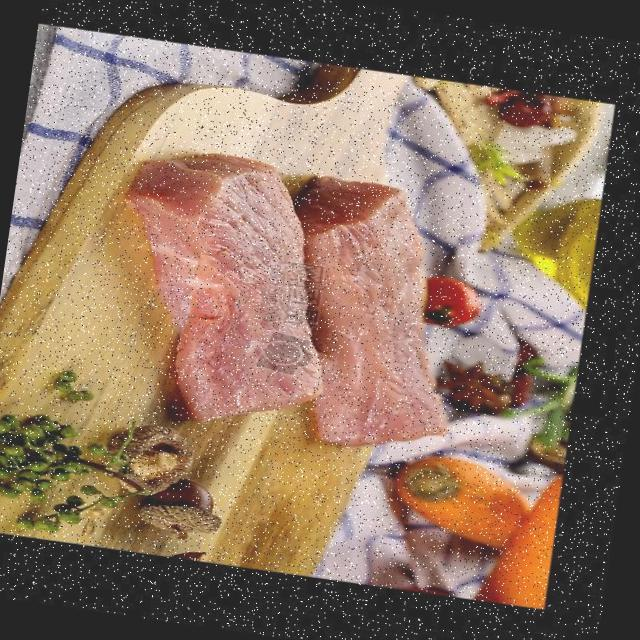pork: (116, 152, 353, 412), (270, 180, 492, 448)
